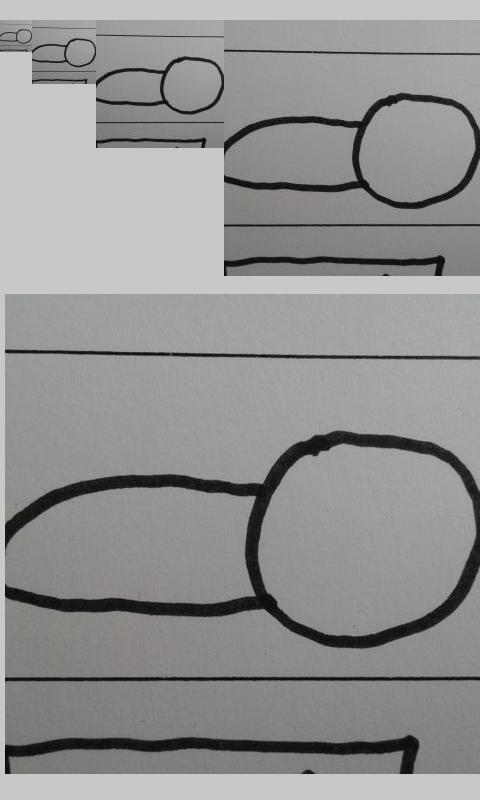switch: (5, 430, 480, 651), (225, 93, 480, 210), (97, 56, 223, 115), (33, 38, 96, 68), (1, 28, 31, 44)
